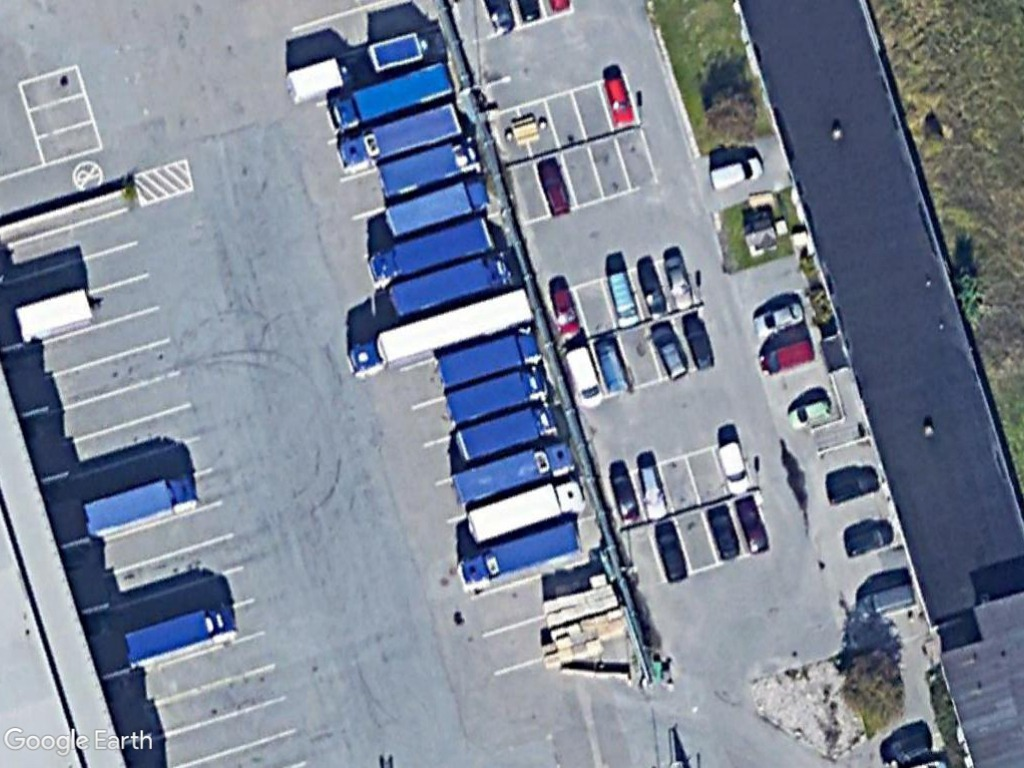car: (645, 319, 695, 388), (729, 492, 777, 561), (651, 518, 694, 588), (838, 518, 899, 565), (748, 296, 810, 338), (823, 465, 883, 508), (636, 459, 675, 525), (599, 73, 638, 134), (784, 394, 837, 434)
longvehicle: (338, 273, 539, 385)
truck: (447, 514, 588, 598), (325, 94, 464, 176), (321, 57, 458, 137), (362, 207, 500, 286), (458, 474, 592, 547), (448, 435, 582, 507), (76, 467, 205, 541), (119, 597, 240, 673), (447, 396, 565, 467), (378, 170, 493, 239), (371, 133, 486, 200), (437, 323, 546, 391), (440, 363, 552, 429)
van: (752, 333, 821, 381), (559, 342, 608, 409), (850, 578, 920, 621), (705, 153, 770, 197), (603, 265, 645, 332)
